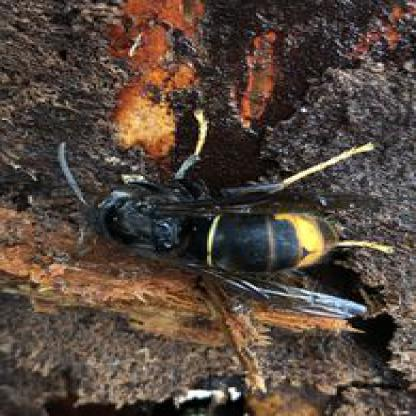Asian Hornet: (56, 108, 388, 324)
